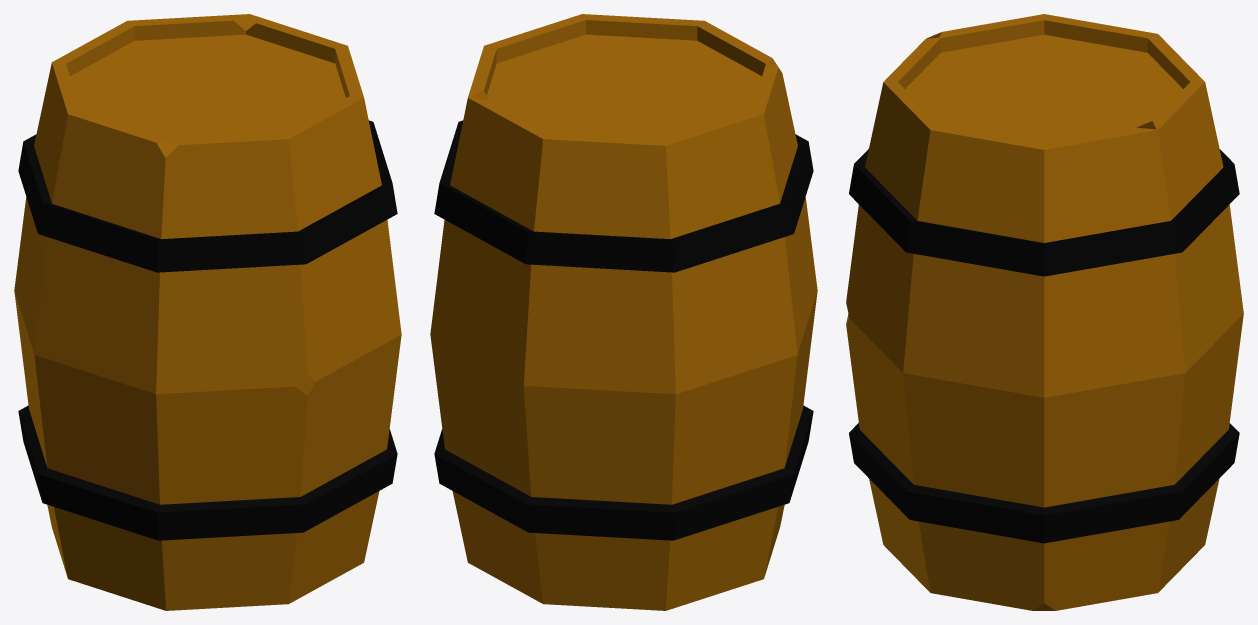
Rendered from Barrel_01.fbx.
3 renders of one model, left to right at view 1: azimuth 30°, elevation 25°; view 2: azimuth 150°, elevation 25°; view 3: azimuth 270°, elevation 25°, orthographic.
Visible parts, largest first — view 1: Barrel_01; view 2: Barrel_01; view 3: Barrel_01.
Part boxes in pixels (x1,y1,x2,y2): Barrel_01: (14,14,401,610); Barrel_01: (430,14,817,610); Barrel_01: (846,14,1243,610).
Size of the model in its own units: 49.93 by 63.9 by 49.75.
